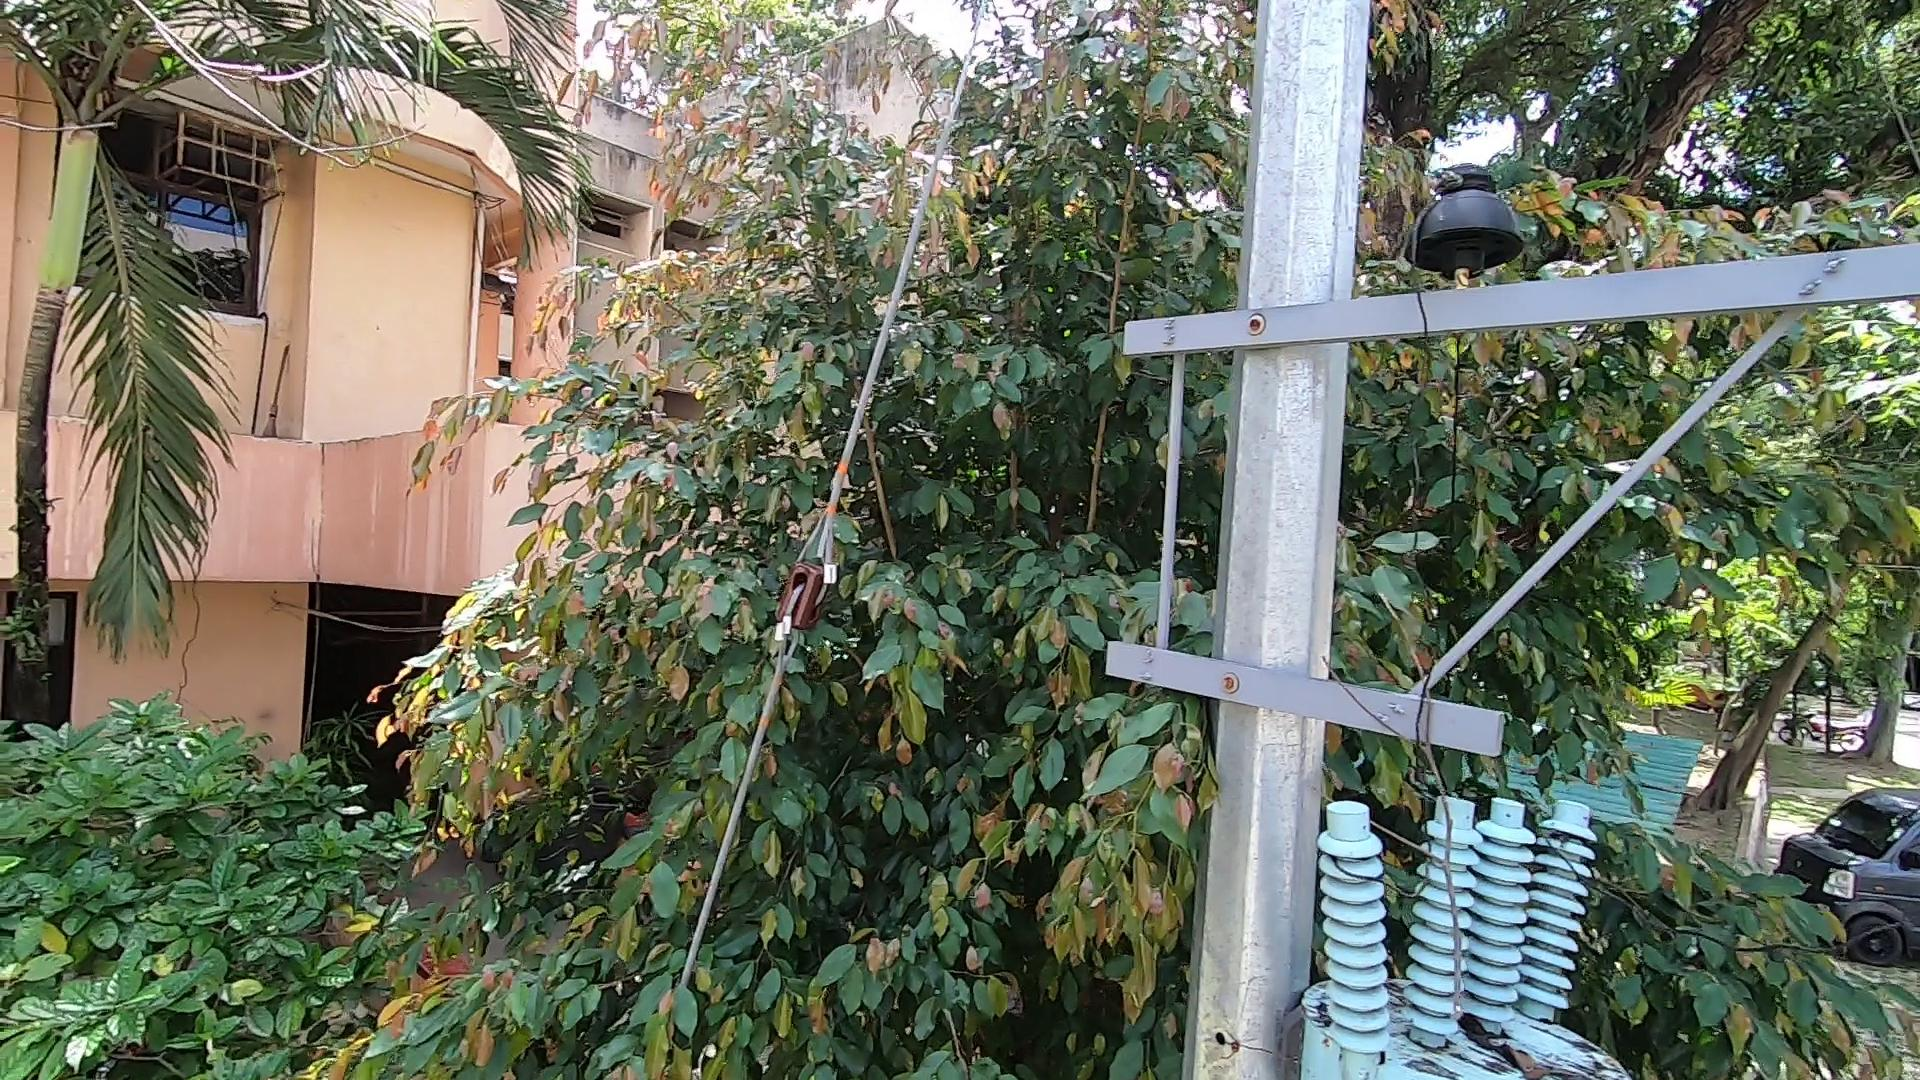leaf: (1440, 1011, 1549, 1080)
tree branch: (1304, 545, 1480, 1019)
